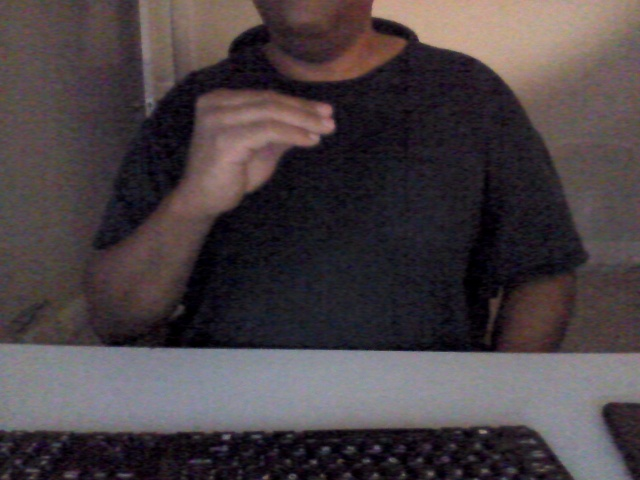eat: (153, 87, 340, 228)
